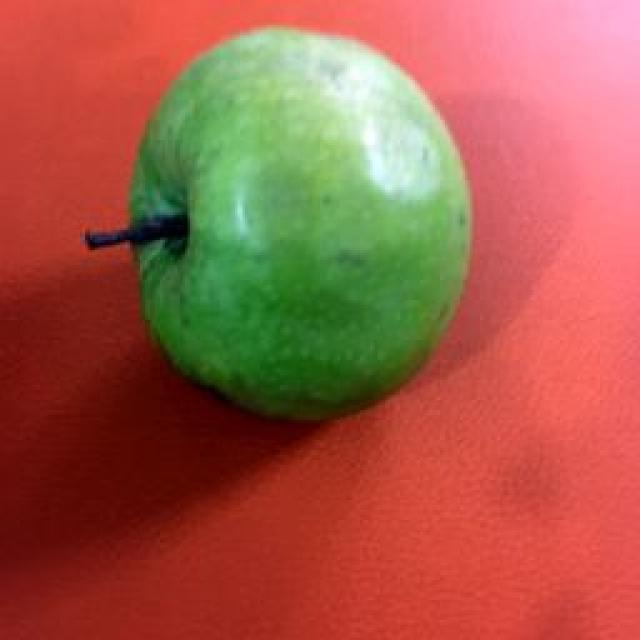Good_Apple: (88, 28, 472, 425)
